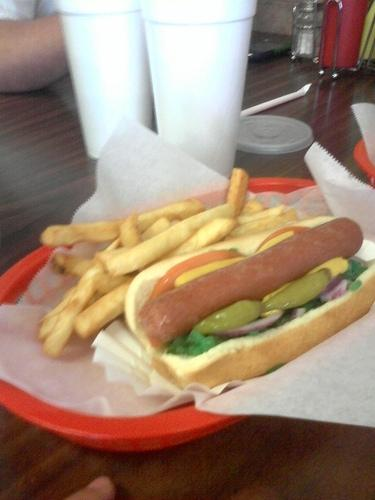onion: (214, 310, 284, 336), (314, 273, 344, 300), (320, 279, 350, 303), (289, 308, 306, 320)
tomato: (150, 250, 246, 300), (255, 226, 312, 253)
